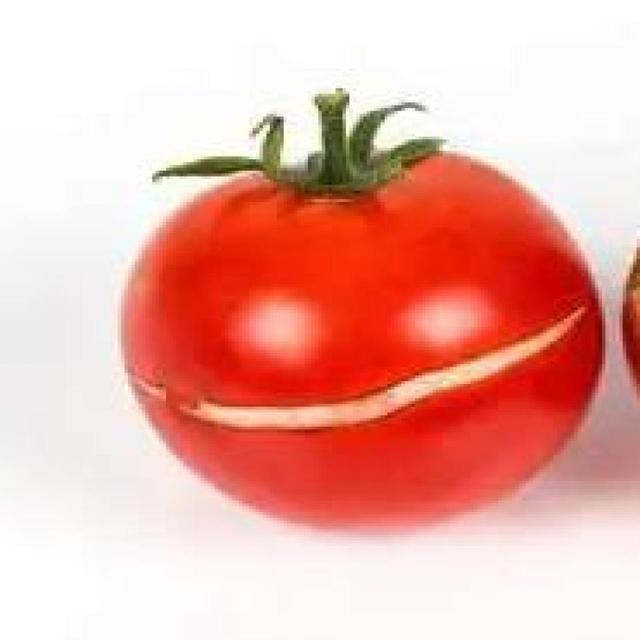Cracking Fruit: (80, 191, 393, 292)
